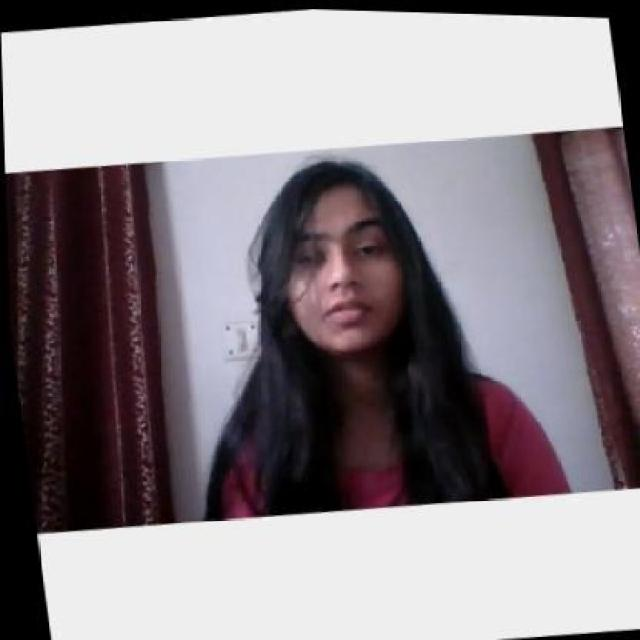attentif: (269, 154, 409, 354)
